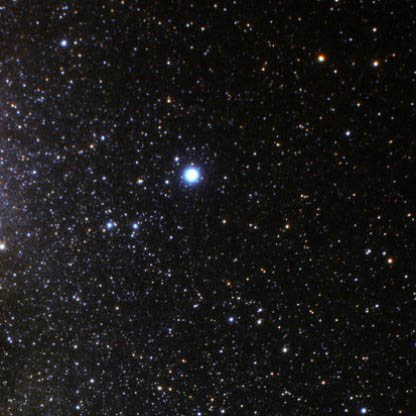Lyra: (182, 164, 204, 188), (157, 176, 172, 192), (133, 174, 147, 190), (169, 150, 182, 167), (104, 216, 118, 230), (130, 217, 141, 233)
